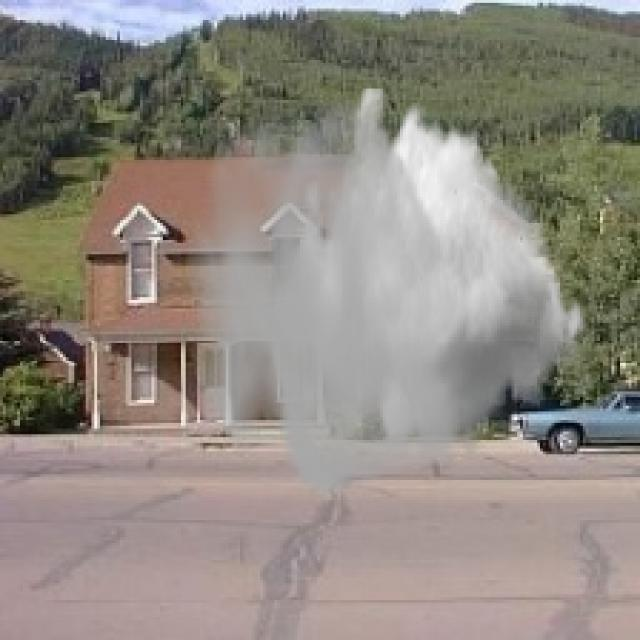smoke: (186, 88, 588, 503)
